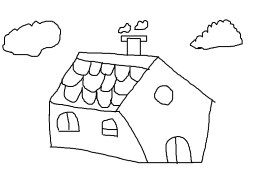closed_window: (56, 111, 81, 132), (101, 118, 118, 138)
clouds: (1, 19, 61, 56), (188, 17, 245, 50)
door: (164, 135, 192, 163)
open_window: (152, 83, 174, 105)
roof: (49, 50, 216, 112)
smoking_chimney: (117, 16, 153, 59)
wall: (44, 99, 152, 166)
